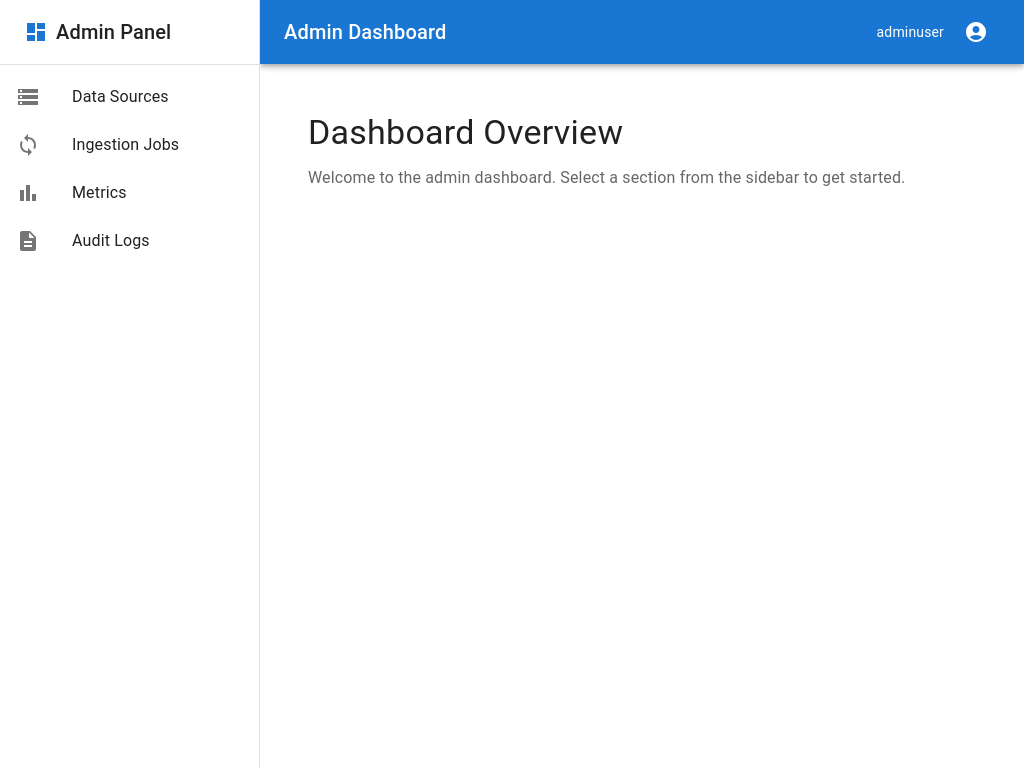
Scenario: AdminPage › Scenario Group B: Navigation Functionality › TC-005: Navigation items update route
Click the button "Data Sources". click: (92, 97)
box: [16,85,169,109]
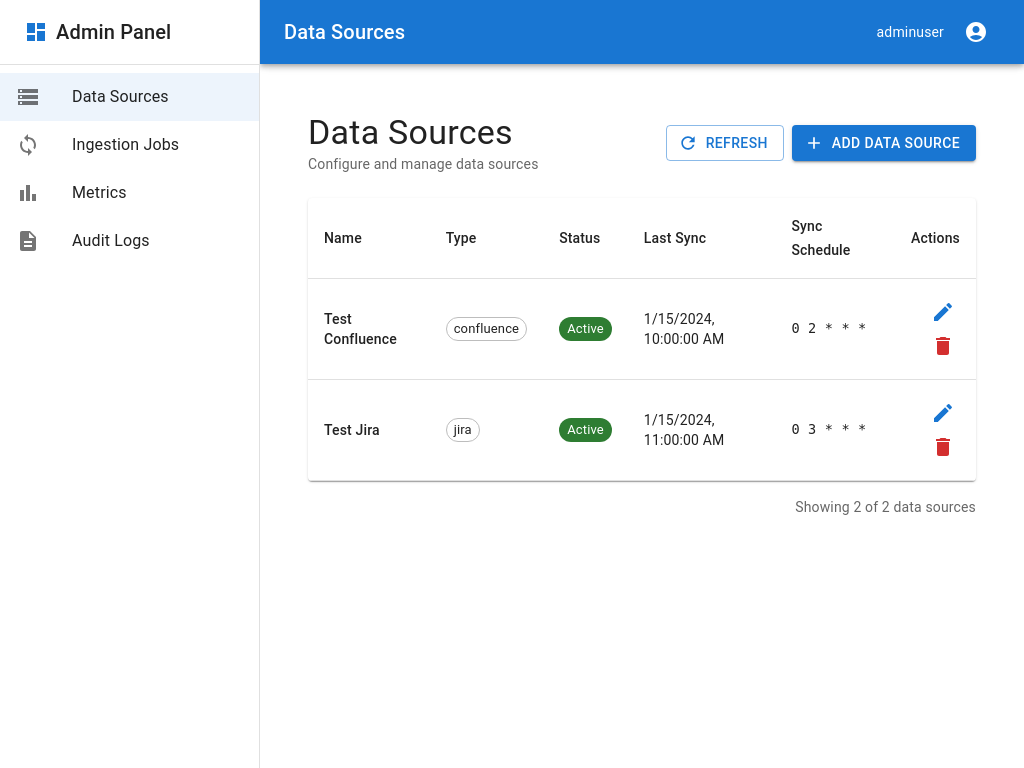
Expected: the text "Configure and manage data sources" is shown, [308,154,539,174]
